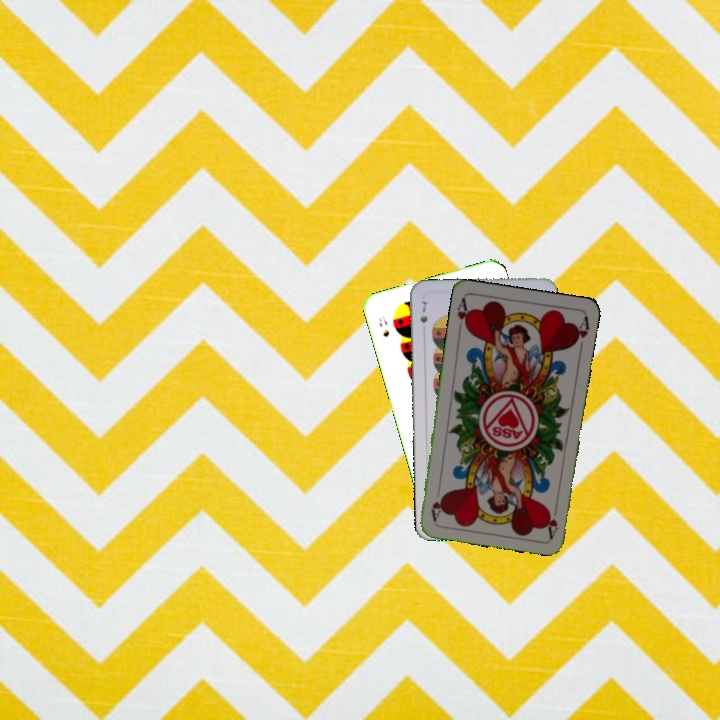HA: (453, 294, 473, 335), (542, 499, 561, 540)
S7: (416, 297, 430, 326)
S8: (375, 312, 392, 339)
